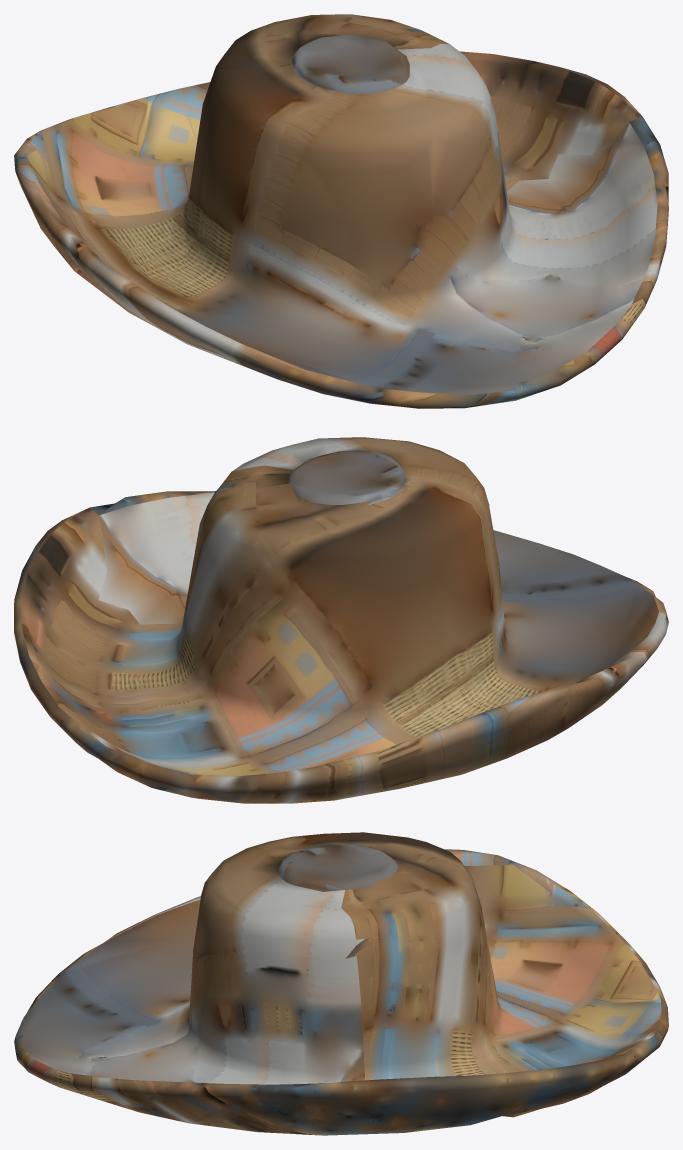
File: SOmbrero.fbx
3 views of the same model, one above another, from view 1: azimuth 30°, elevation 25°; view 2: azimuth 150°, elevation 25°; view 3: azimuth 270°, elevation 25° (orthographic). The views are drawn at different scales.
Parts seen in each view (by area): view 1: texture_pbr_v128; view 2: texture_pbr_v128; view 3: texture_pbr_v128.
Part boxes in pixels (x1,y1,x2,y2): texture_pbr_v128: (14, 14, 668, 408); texture_pbr_v128: (14, 437, 668, 803); texture_pbr_v128: (14, 832, 668, 1135).
Size of the model in its own units: 64.63 by 23.73 by 73.41.
